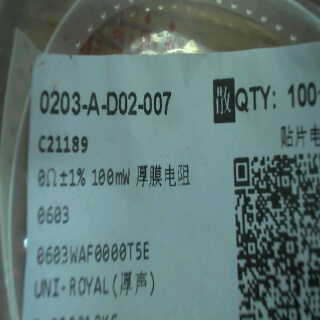0R: (34, 159, 133, 232)
